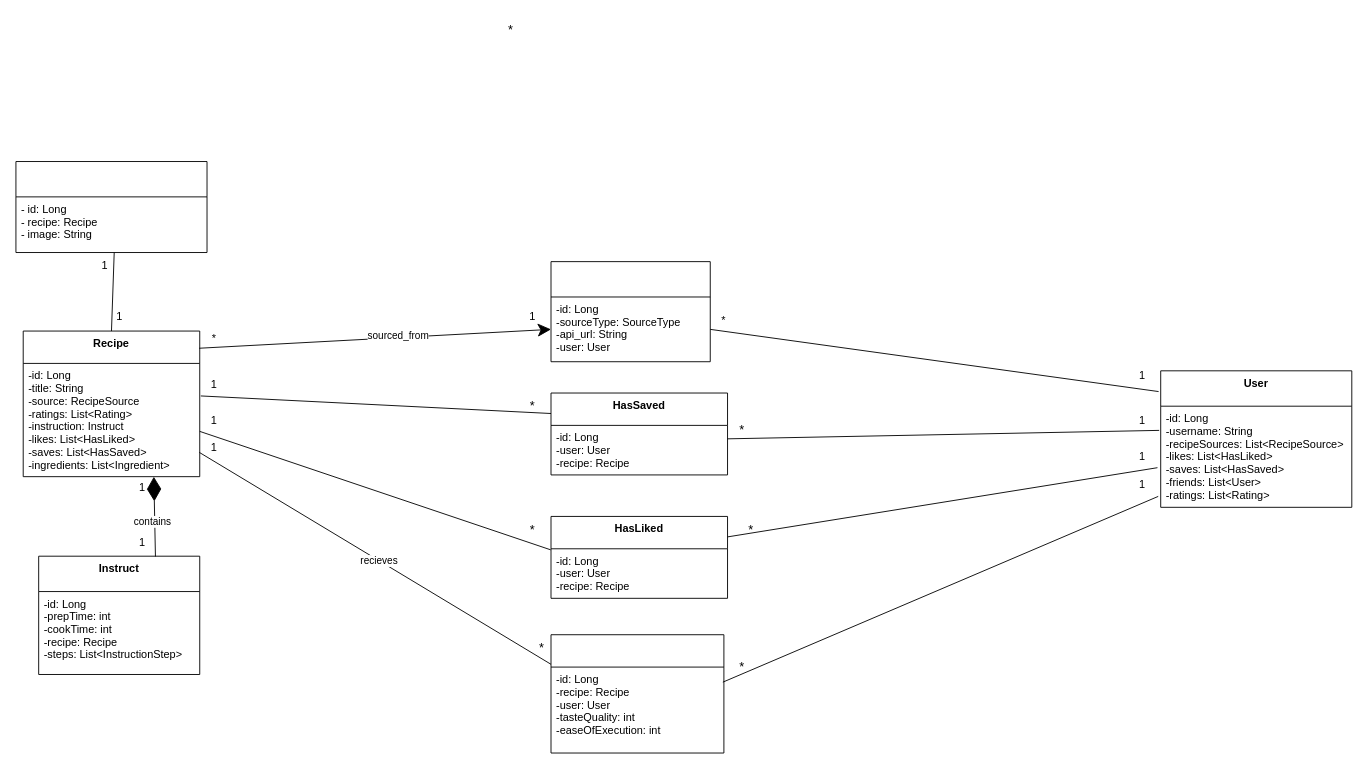
The diagram is 1368 pixels wide and 771 high, and some of its shapes have lost their labels. The shapes that lost their labels are listed below. From the top down, each one's box as (x1, y1, x2, y2) in pixels, then its label:
(15, 161, 207, 253): Post
(550, 261, 710, 362): RecipeSource
(550, 634, 724, 753): Rating
